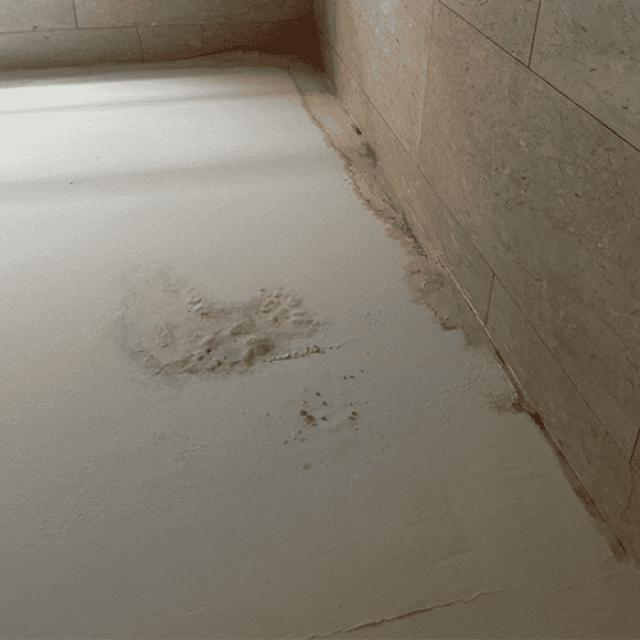leak: (140, 294, 316, 376)
